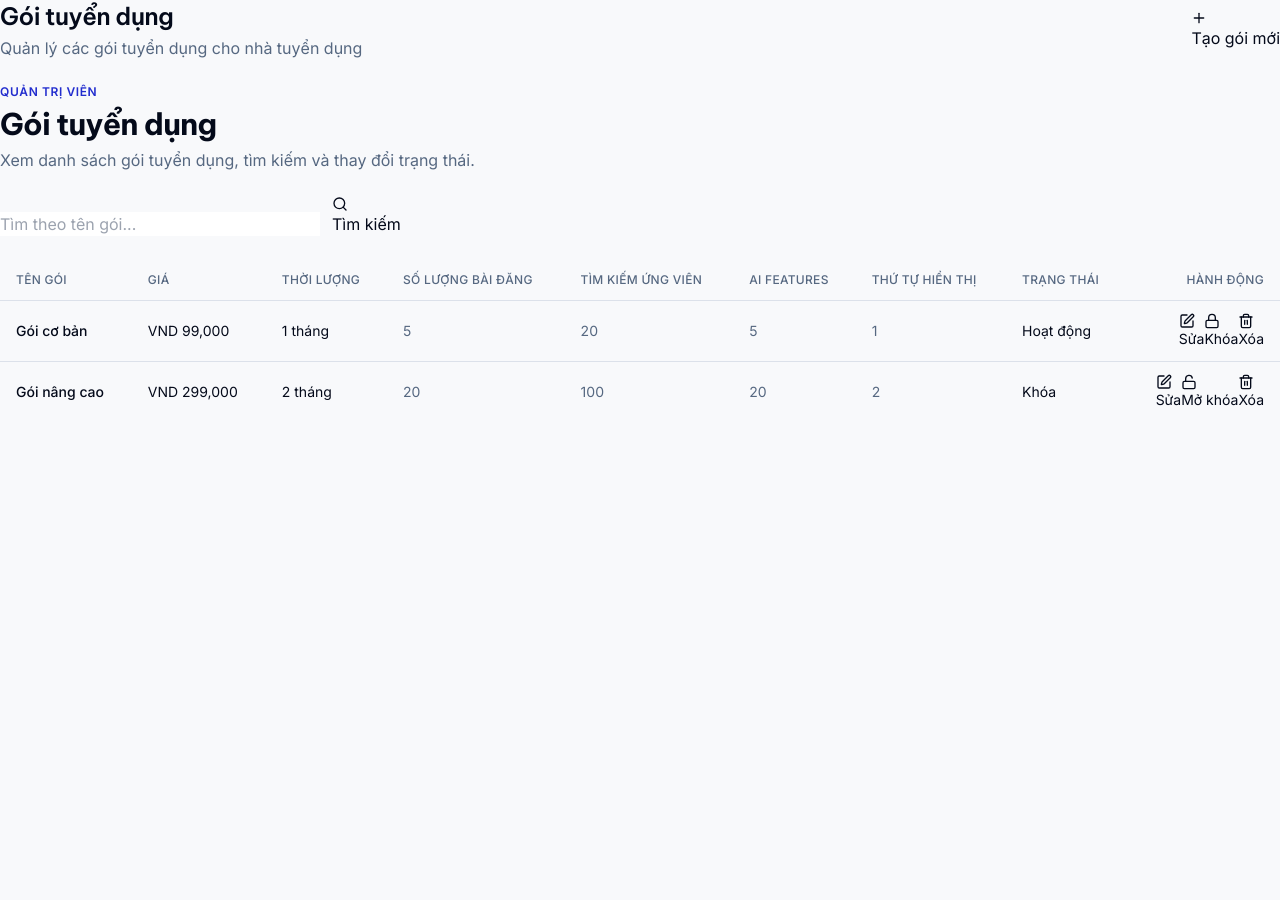
Test: AdminPlansPage › clicking "+ Tạo gói" button opens Create modal
Note: Click "+ Tạo gói" button (by aria-label)
What coordinates should you click on to do the following:
click the button with aria-label "tạo gói tuyển dụng mới"
I would click on:
 (1236, 30)
Its box is [1191,10,1279,50].
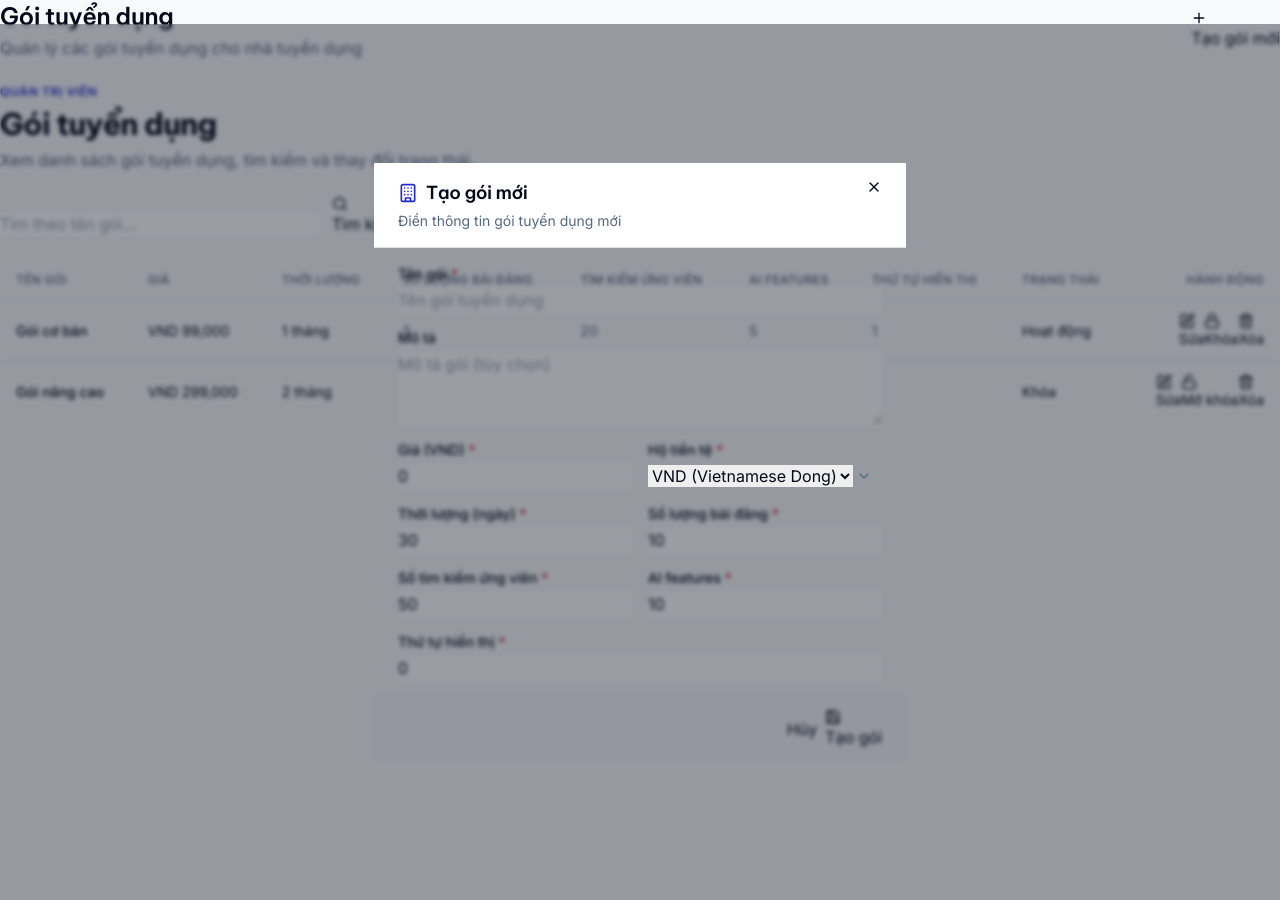
Check: the dialog is shown
Check: the dialog shows "Tạo gói mới", box [426,181,528,204]
